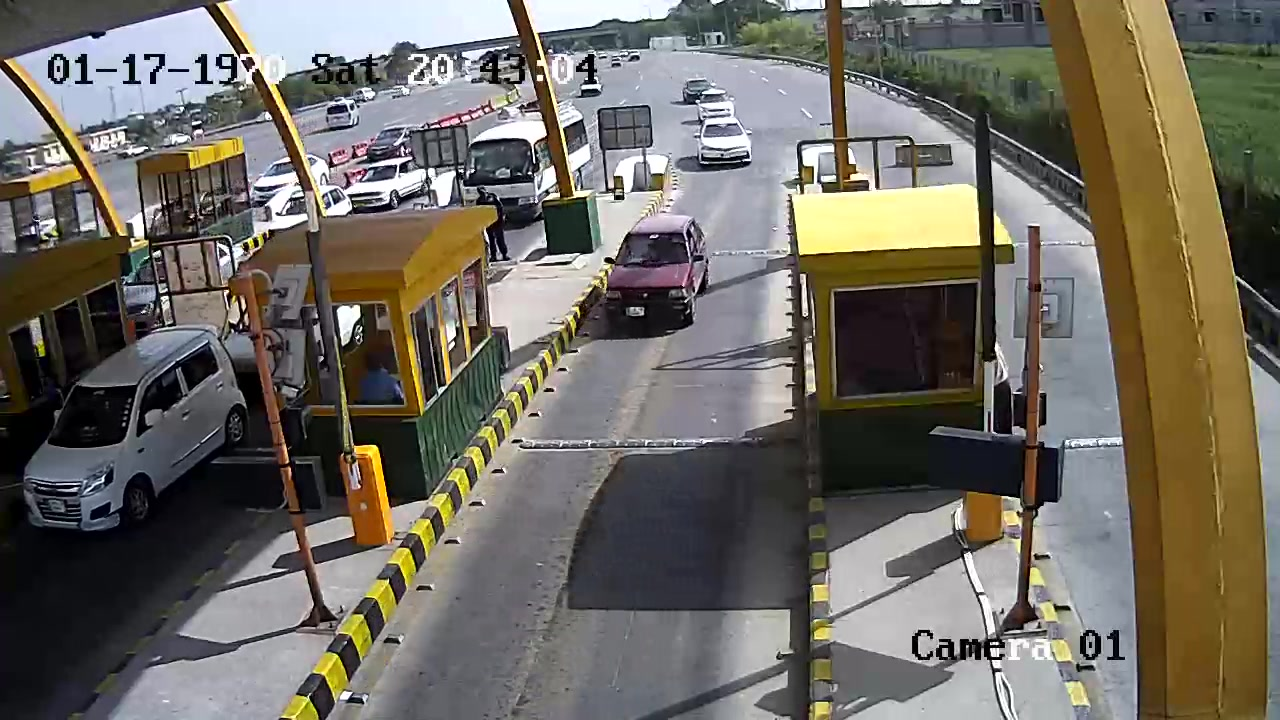F1: (593, 207, 720, 361)
